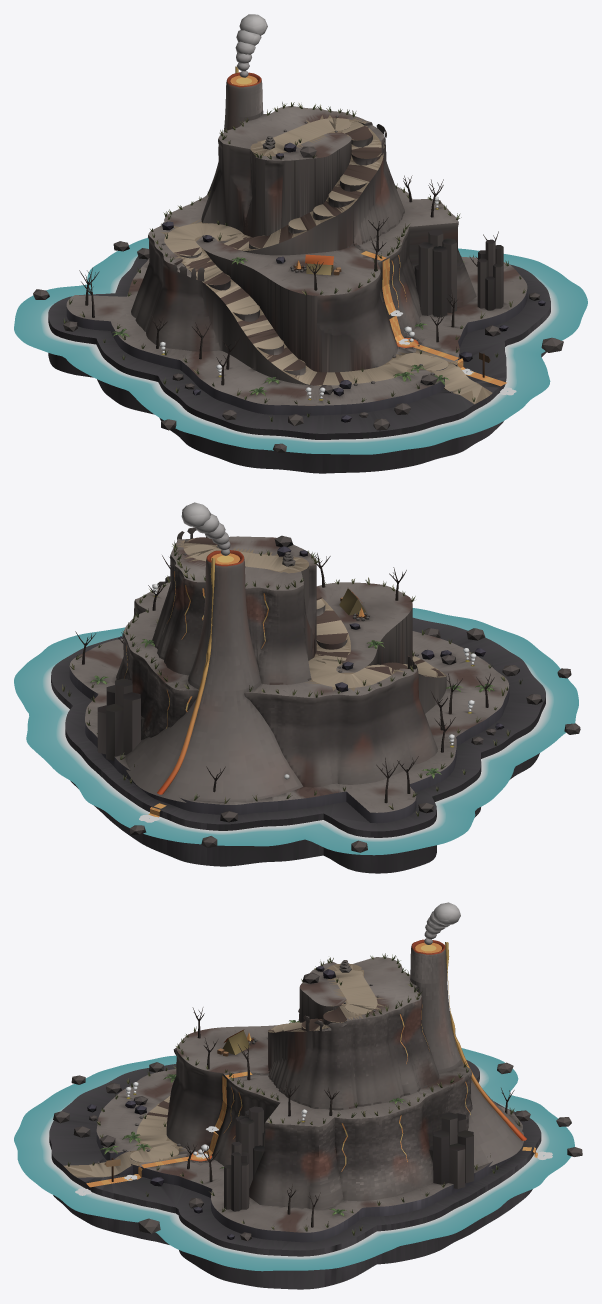
File: VolcanoIsland.glb
3 renders of one model, top to bottom at view 1: azimuth 30°, elevation 25°; view 2: azimuth 150°, elevation 25°; view 3: azimuth 270°, elevation 25°, orthographic. The views are drawn at different scales.
Parts seen in each view (by area): view 1: Lit, Unlit, Soft; view 2: Lit, Unlit, Soft; view 3: Lit, Unlit, Soft.
Part boxes in pixels (bbox=[...]): Lit: bbox=[33, 102, 563, 473]; Unlit: bbox=[14, 66, 587, 454]; Soft: bbox=[160, 14, 438, 398]; Lit: bbox=[51, 527, 580, 873]; Unlit: bbox=[14, 553, 578, 855]; Soft: bbox=[125, 502, 476, 802]; Lit: bbox=[49, 953, 582, 1289]; Unlit: bbox=[14, 942, 574, 1271]; Soft: bbox=[125, 902, 523, 1168].
Bounding box in the file's own units: 6.13 × 3.6 × 6.53.
